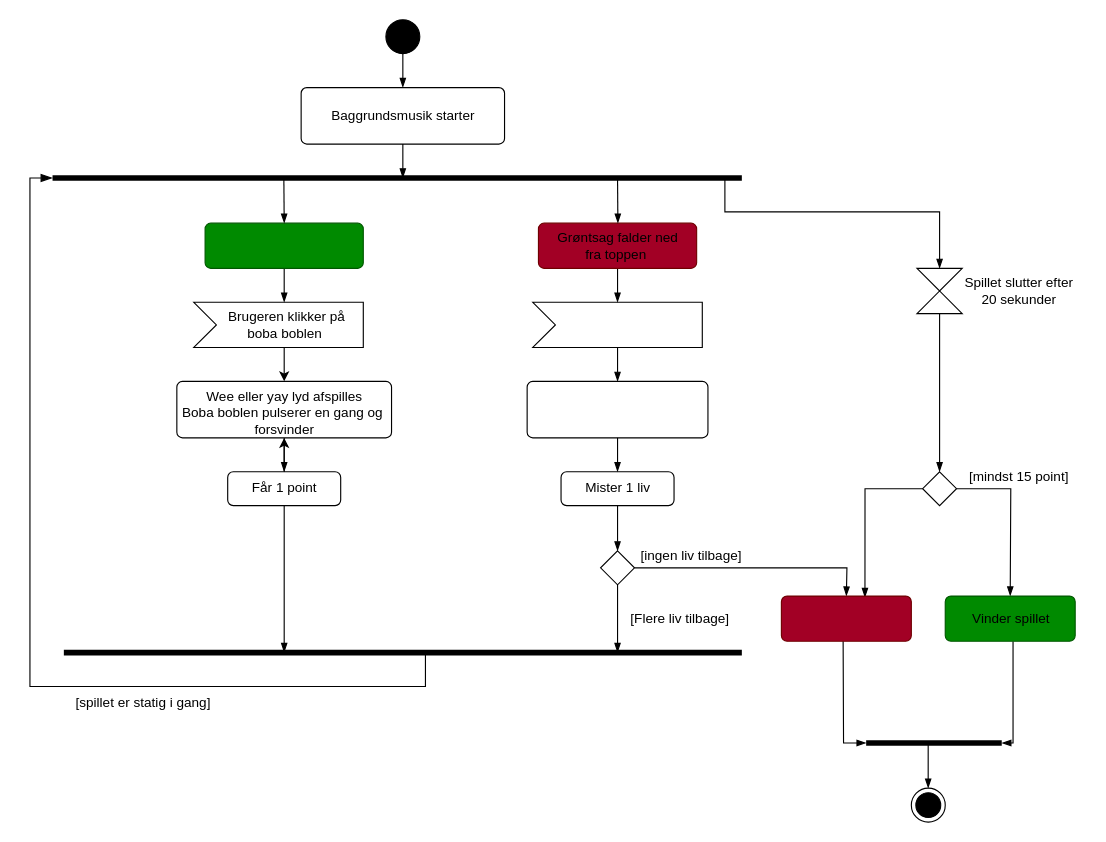
The diagram is 1106 pixels wide and 842 high, and some of its shapes have lost their labels. The centre of each missing label's shape, as x and y in pixels:
"Boba bobler faler ned fra toppen" goes at (x=283, y=245).
"Brugeren klikker på grøntsagen" goes at (x=617, y=324).
"Oww lyd afspillet Grøntsagen snurrer og forsvinder" goes at (x=617, y=409).
"Taber spillet" goes at (x=845, y=618).
